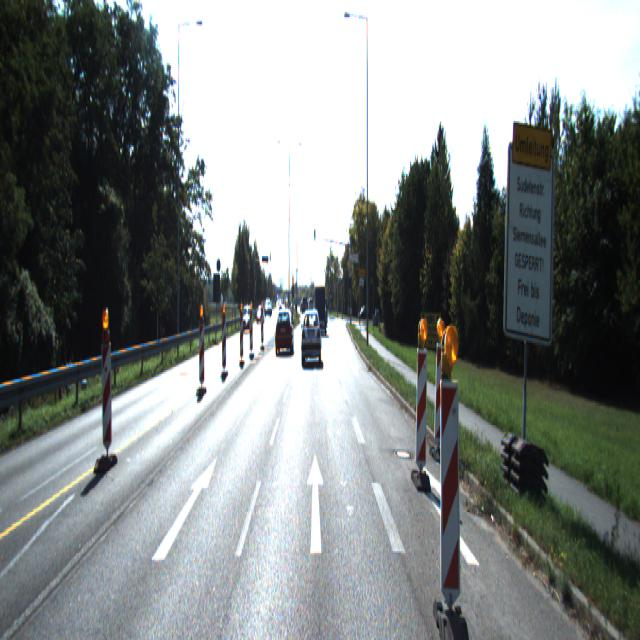Car: (302, 309, 322, 362), (274, 308, 294, 356), (314, 285, 326, 335)
